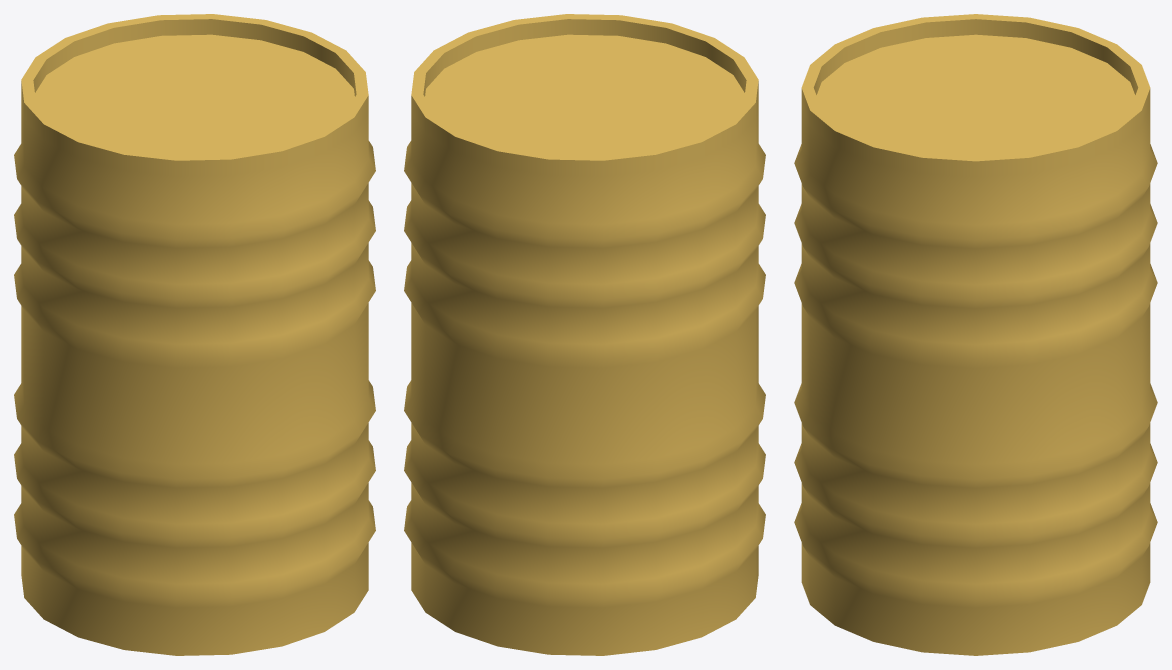
File: Garbage02.fbx
3 views of the same model, side by side, from view 1: azimuth 30°, elevation 25°; view 2: azimuth 150°, elevation 25°; view 3: azimuth 270°, elevation 25° (orthographic).
Visible parts, largest first — view 1: polySurface15; view 2: polySurface15; view 3: polySurface15.
Boxes of the visible parts, x1,y1,x2,y2 form: polySurface15: [14, 14, 375, 655]; polySurface15: [404, 14, 765, 655]; polySurface15: [794, 14, 1157, 655].
Bounding box in the file's own units: 8.24 × 12.37 × 8.24.
